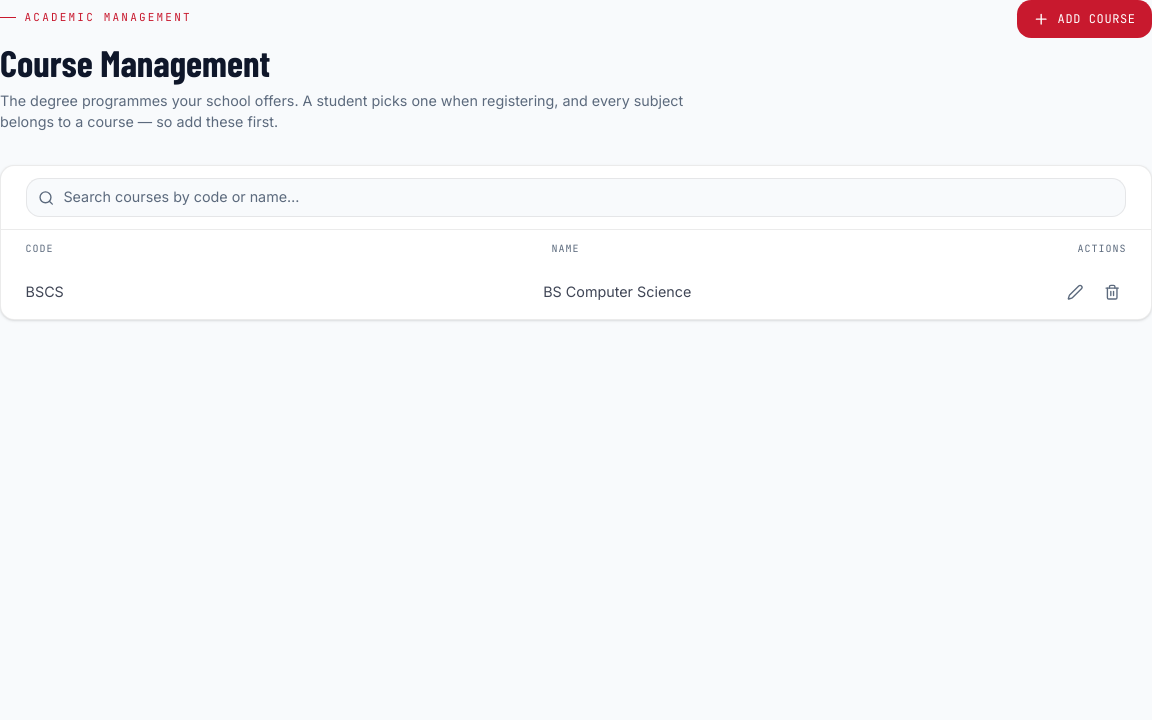
Courses — a row answers what it is › offers the edit from inside the details
Click the text "BS Computer Science" at (617,292), box [543,283,691,300]
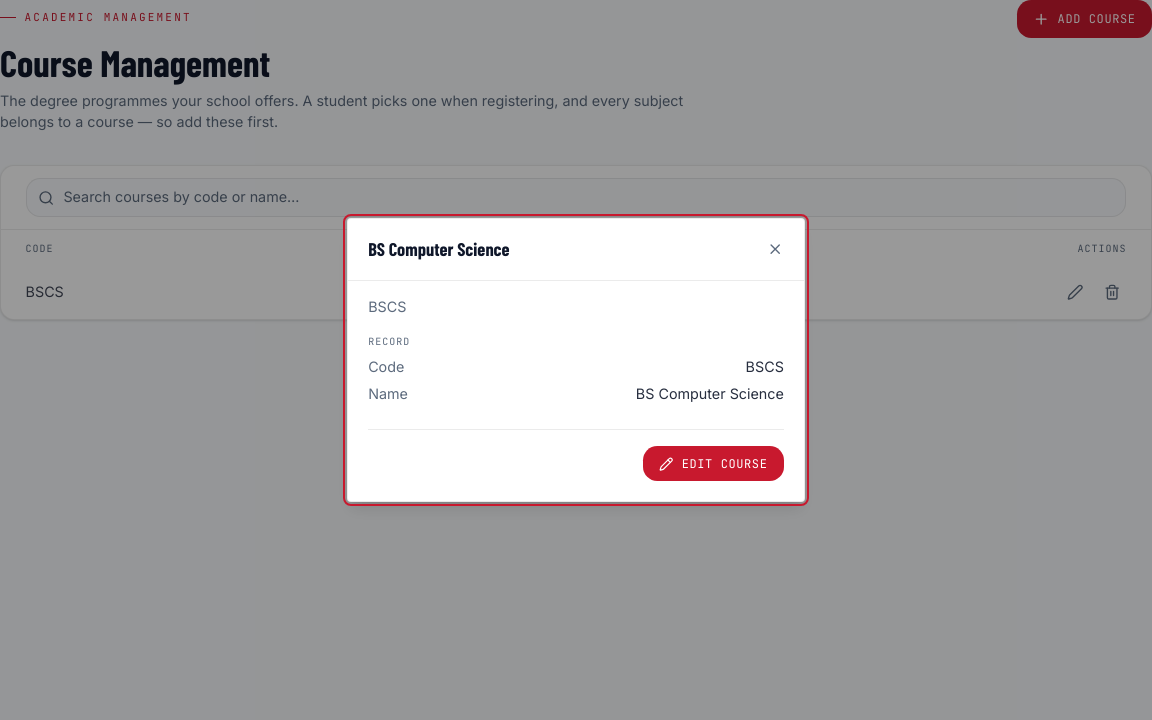
Click the button "Edit course" at (713,464), box [643,446,784,481]
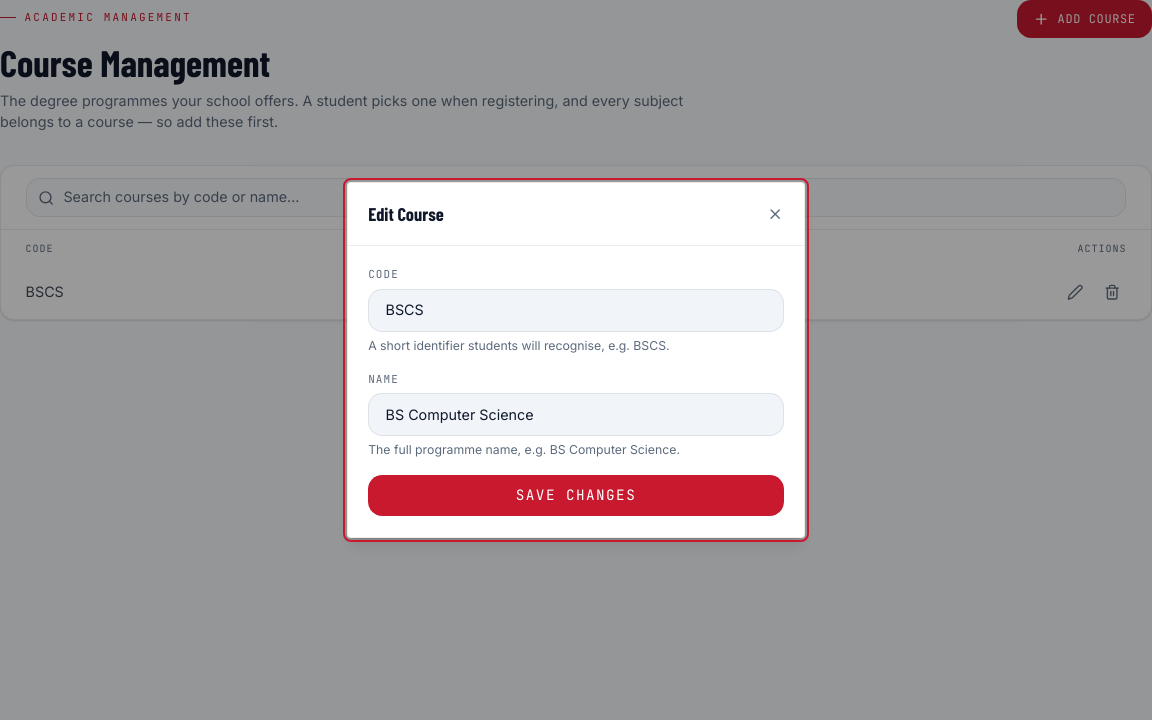
Expected: the field labelled "Code" holds "BSCS", [368,289,784,332]
